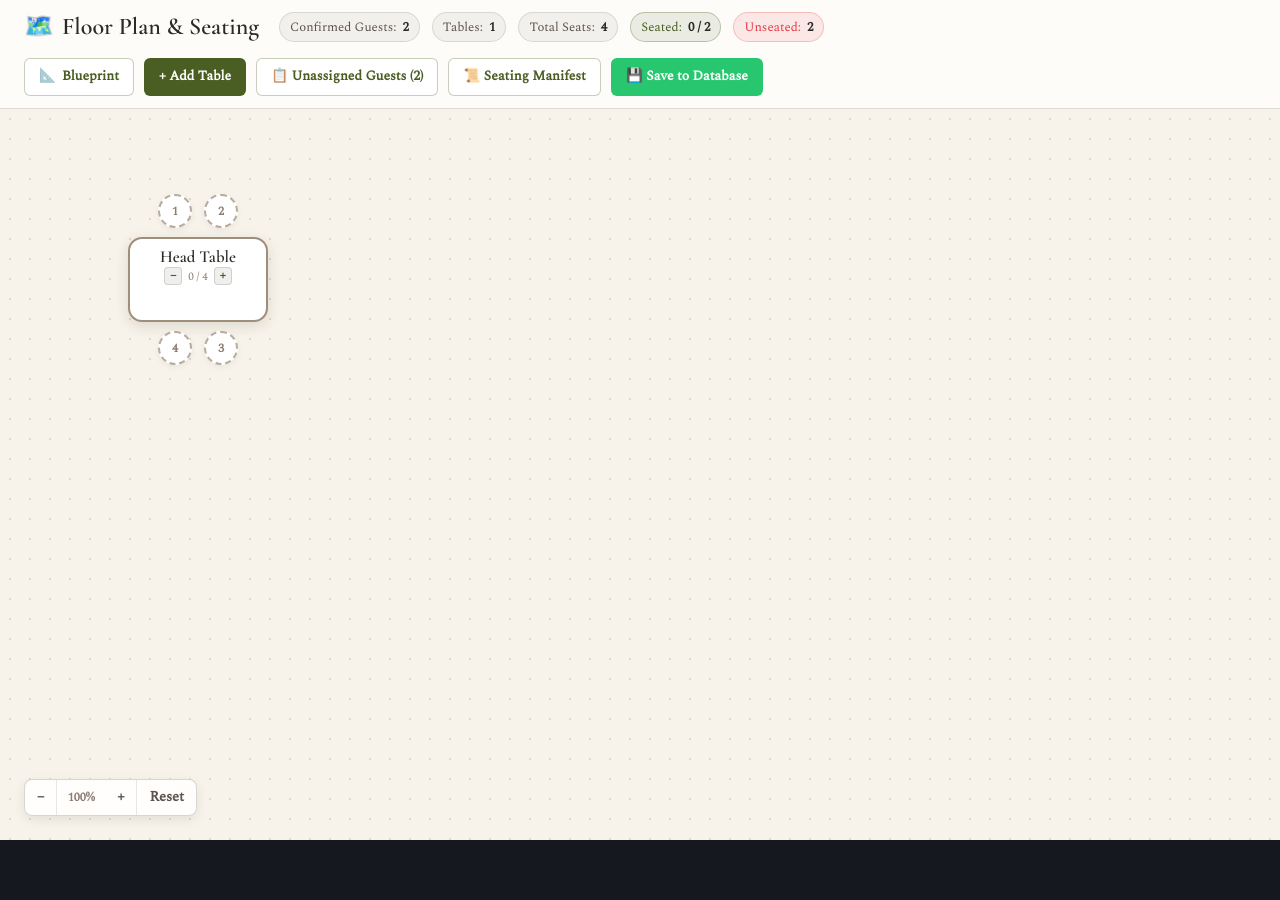
Test: FloorPlanView Component › removes an individual seat slot from table via SeatAssignmentModal
// Click seat 4
Click the button "4" at (175,348), box x1=158 y1=331 x2=192 y2=365
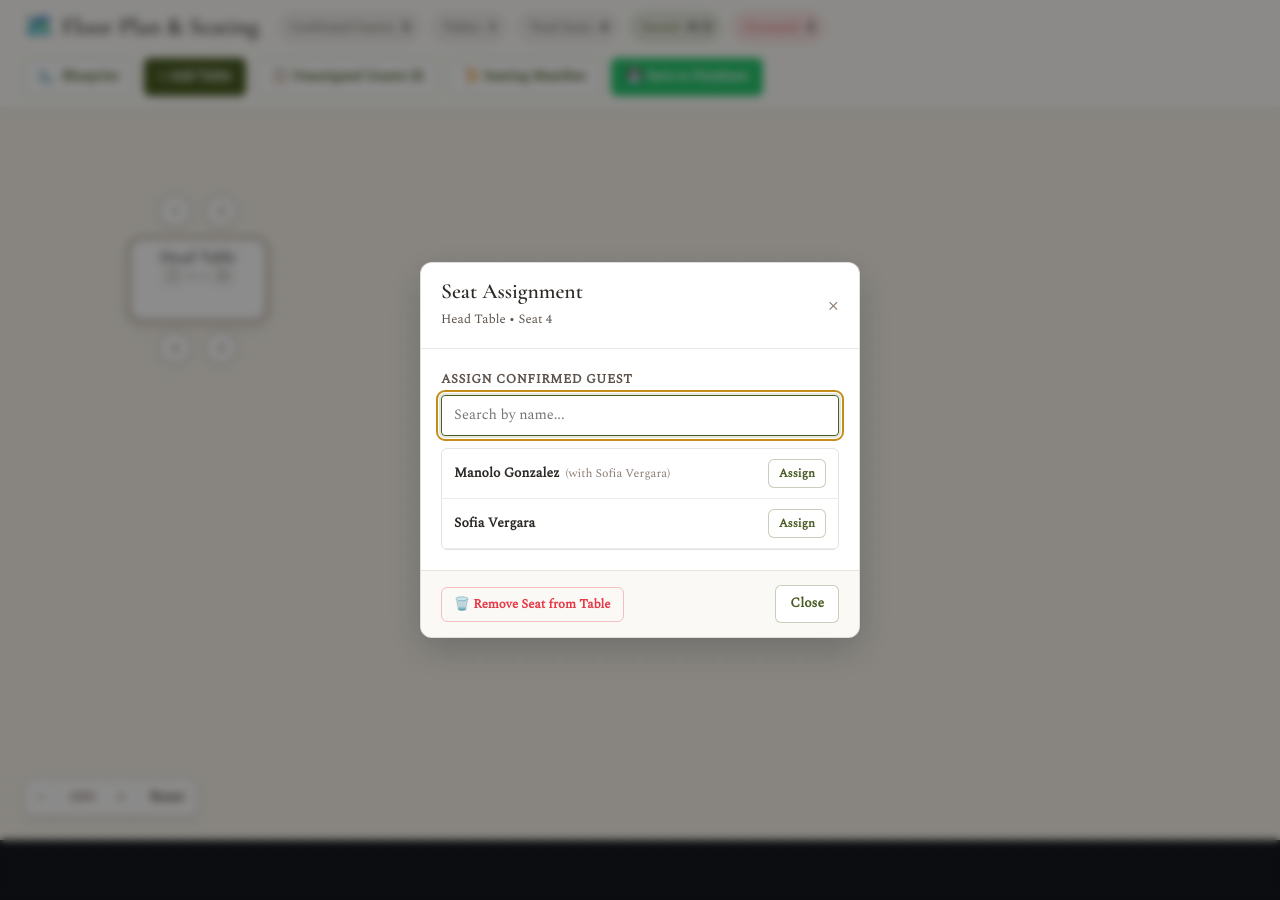
Check: the heading "Seat Assignment" is shown, box x1=441 y1=279 x2=583 y2=305
Check: the button with test id "remove-seat-from-table-btn" is shown
// Click remove seat
Click the button with test id "remove-seat-from-table-btn" at (532,604), box x1=441 y1=587 x2=624 y2=622
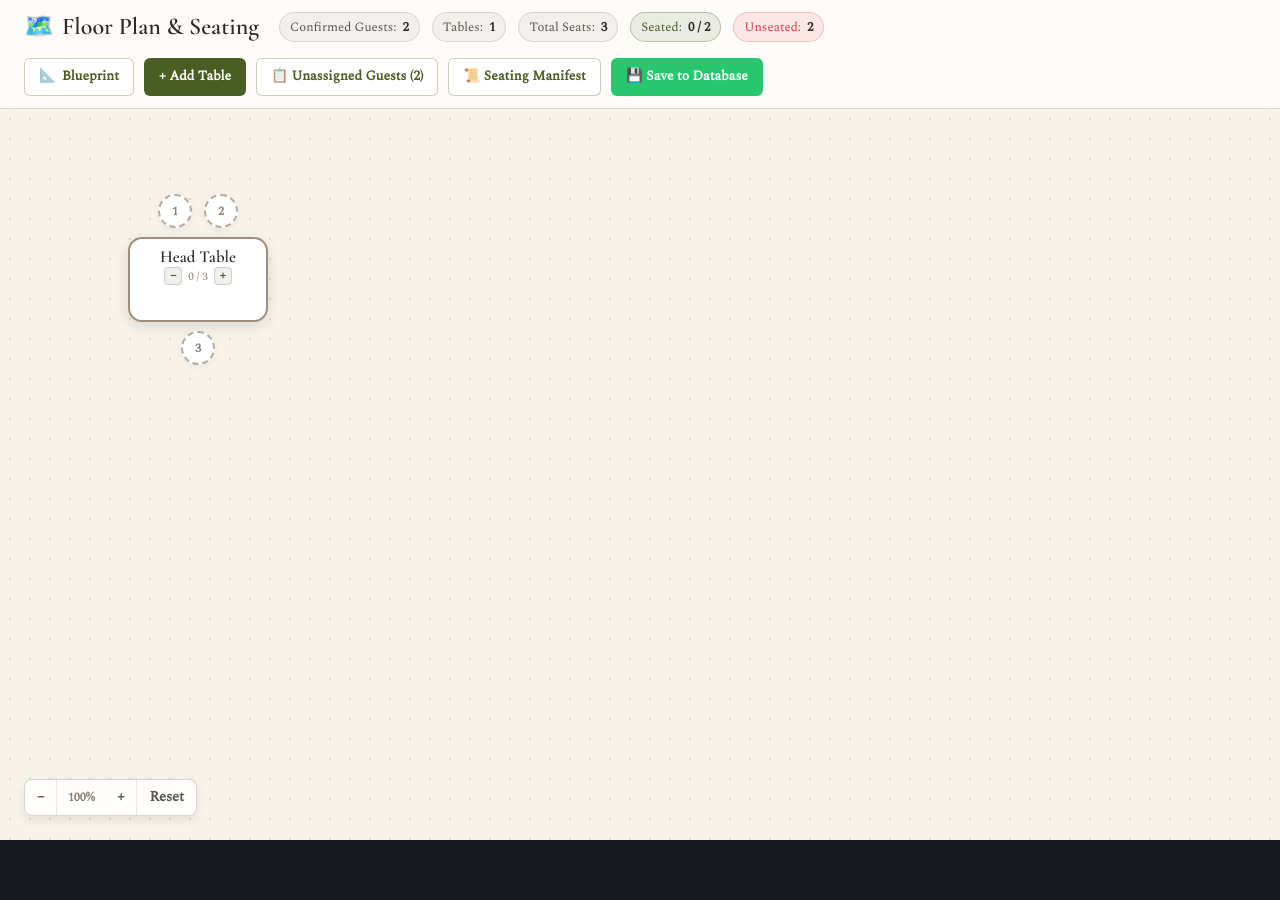
Check: the heading "Seat Assignment" is gone
